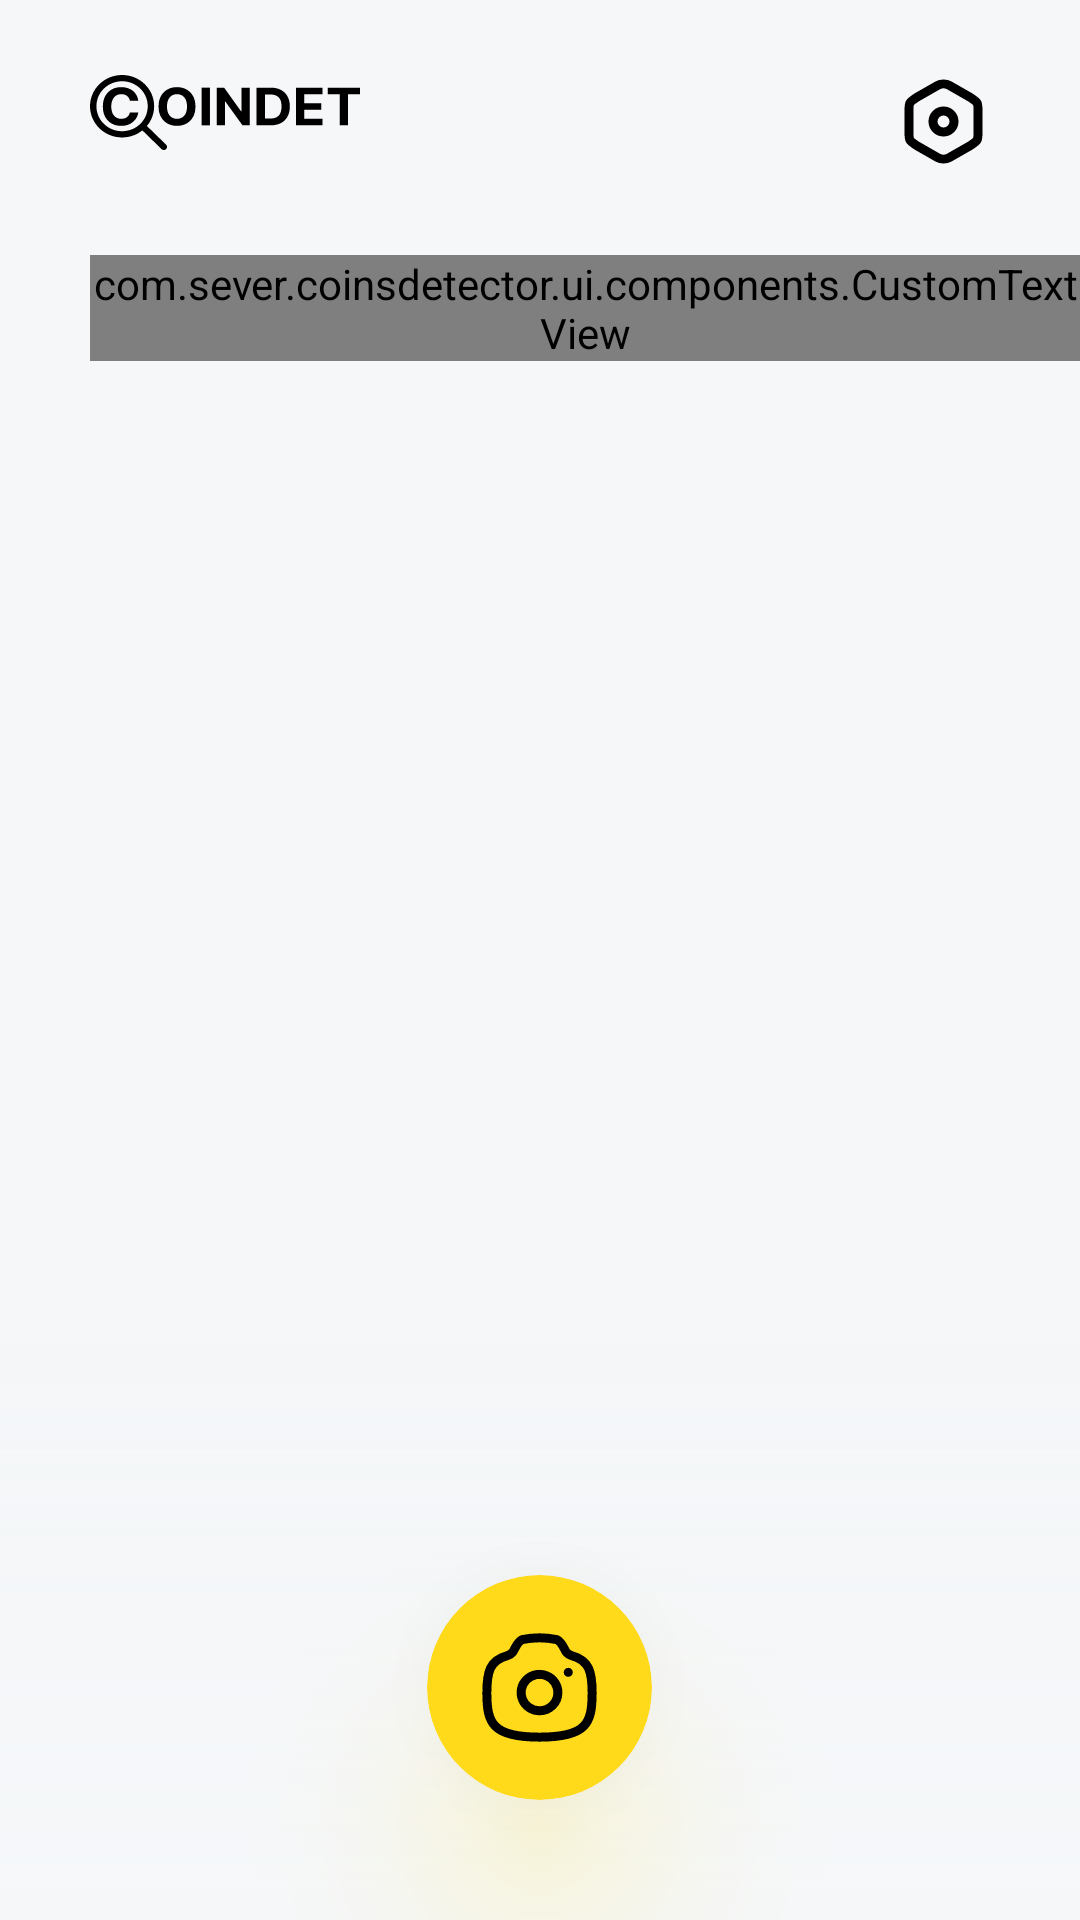

Icons on this 1080w x 1920h Android screen, each with the point to tap as point (x, y):
camera: point (539, 1687)
settings: point (943, 121)
